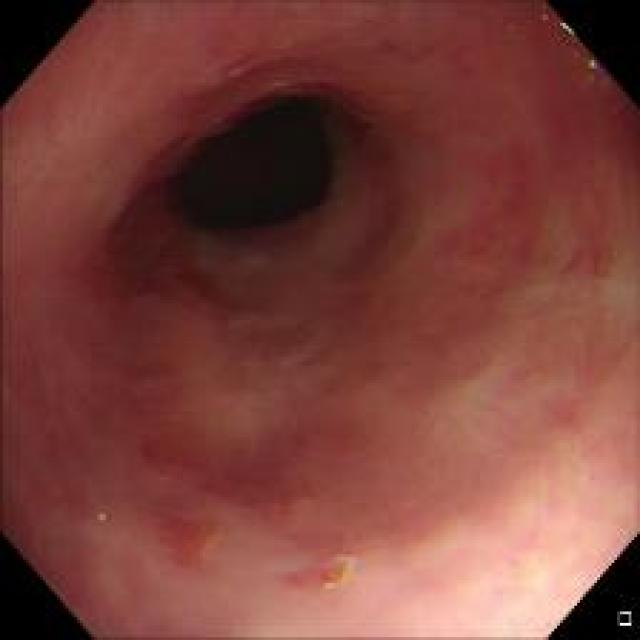color misalignment: (526, 1, 630, 120)
contrast: (154, 80, 366, 250)
